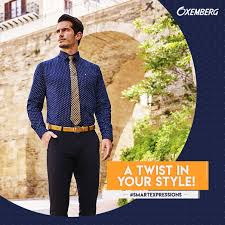F_belt: (45, 120, 100, 136)
F_dress pants: (46, 134, 103, 216)
F_shirt: (22, 57, 112, 131)
